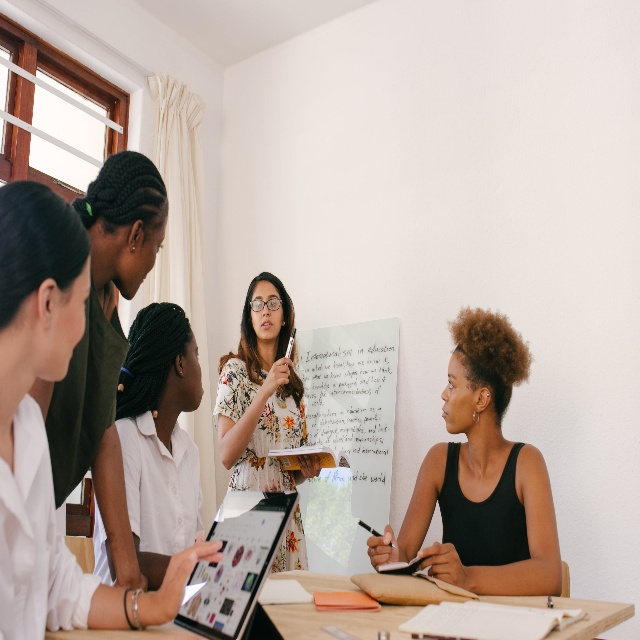Gafas: (249, 297, 283, 312)
Sin_guantes: (159, 532, 223, 623), (417, 541, 466, 590), (366, 523, 400, 573), (262, 357, 294, 400), (296, 453, 322, 479)
